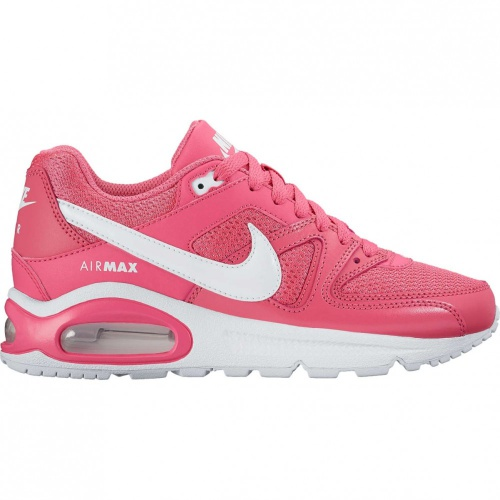nike: (50, 198, 285, 306)
